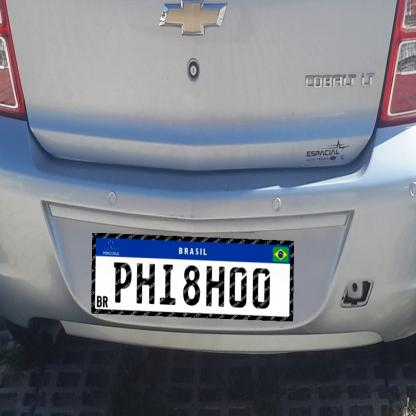PlacaM: (91, 233, 294, 321)
